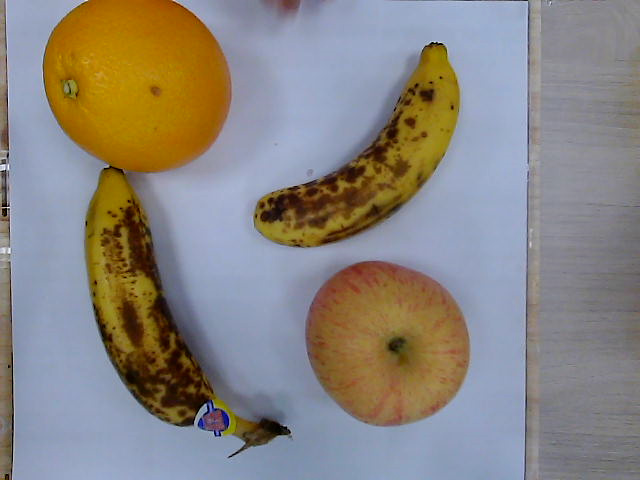fresh_apple: (307, 260, 472, 427)
fresh_orange: (42, 1, 233, 172)
rotten_banana: (84, 167, 290, 446), (253, 44, 462, 248)
